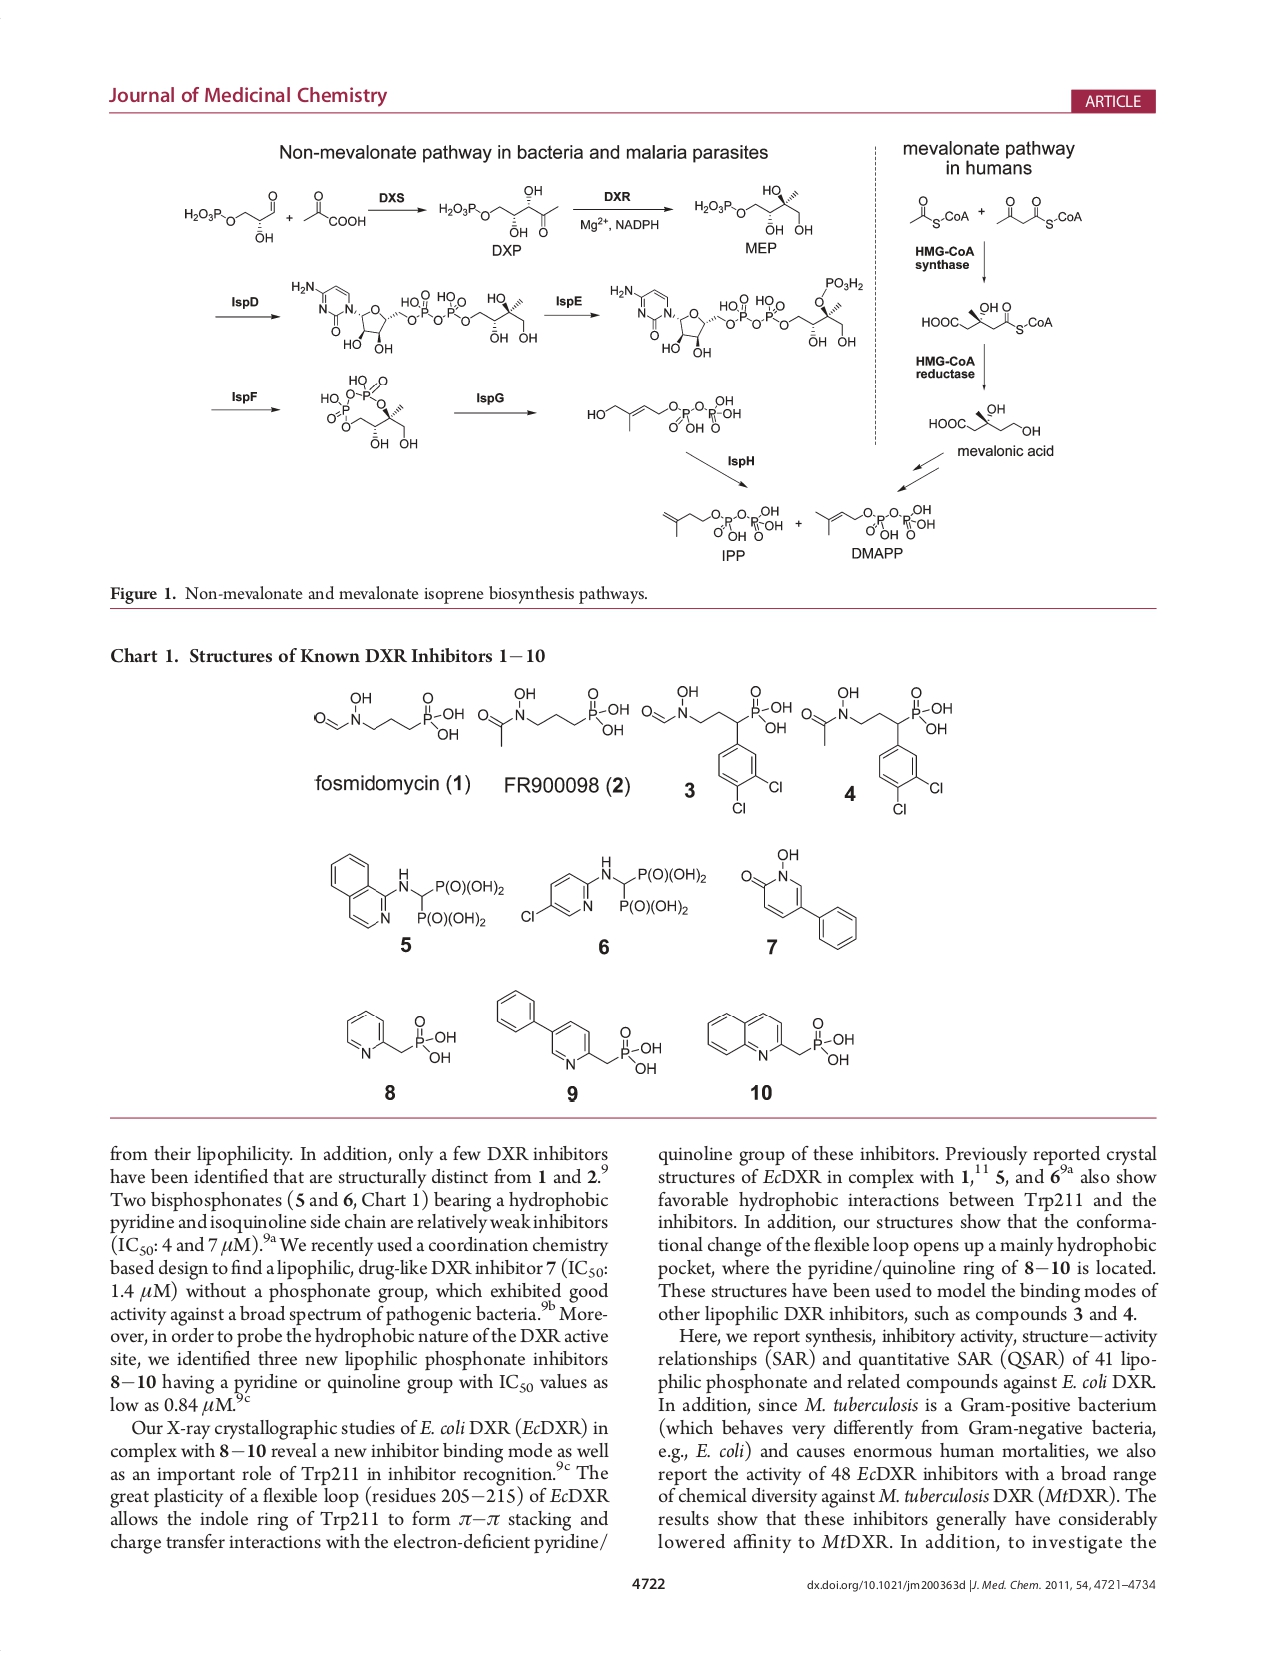exist_molecular: (473, 681, 955, 817), (608, 275, 863, 362), (290, 278, 539, 356), (493, 987, 662, 1077), (324, 848, 508, 930), (516, 852, 710, 926), (738, 848, 860, 952), (705, 1009, 856, 1071), (309, 688, 467, 743), (318, 370, 420, 449), (342, 1003, 459, 1065), (581, 394, 742, 439), (438, 184, 561, 239), (693, 184, 814, 239), (660, 497, 787, 544), (181, 190, 281, 247), (811, 501, 938, 543), (918, 299, 1056, 336), (927, 399, 1043, 442), (992, 190, 1084, 233), (904, 192, 973, 230), (302, 190, 368, 230)
